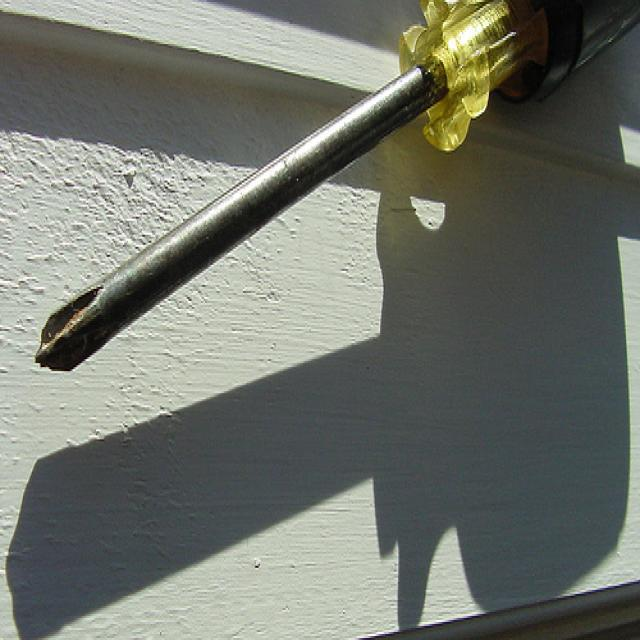screw driver: (14, 0, 639, 382)
